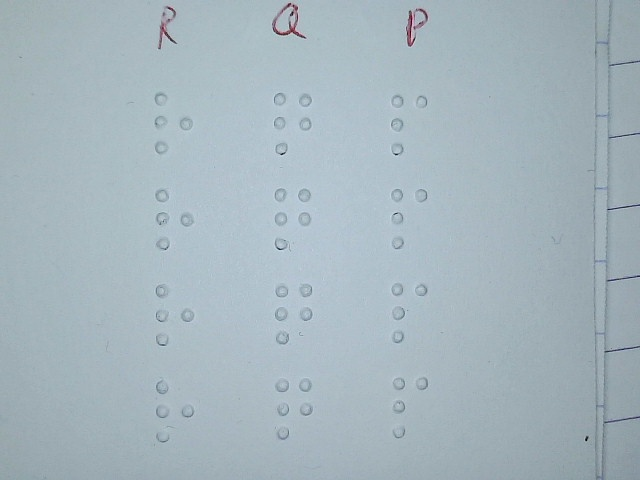P: (387, 91, 430, 157), (388, 184, 431, 250), (388, 278, 431, 344), (389, 373, 432, 439)
Q: (272, 90, 315, 156), (271, 185, 314, 251), (273, 280, 316, 346), (273, 375, 316, 441)
R: (152, 90, 195, 156), (153, 185, 196, 251), (153, 281, 196, 347), (154, 377, 197, 443)
